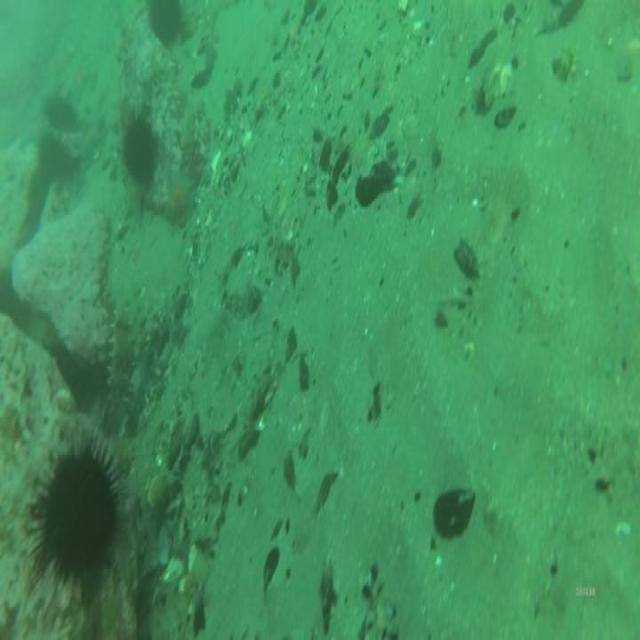echinus: (44, 450, 116, 580), (122, 120, 156, 179), (36, 139, 70, 180), (150, 2, 182, 44), (46, 98, 78, 133)
holothurian: (108, 308, 134, 435)
starfish: (167, 172, 194, 231)
